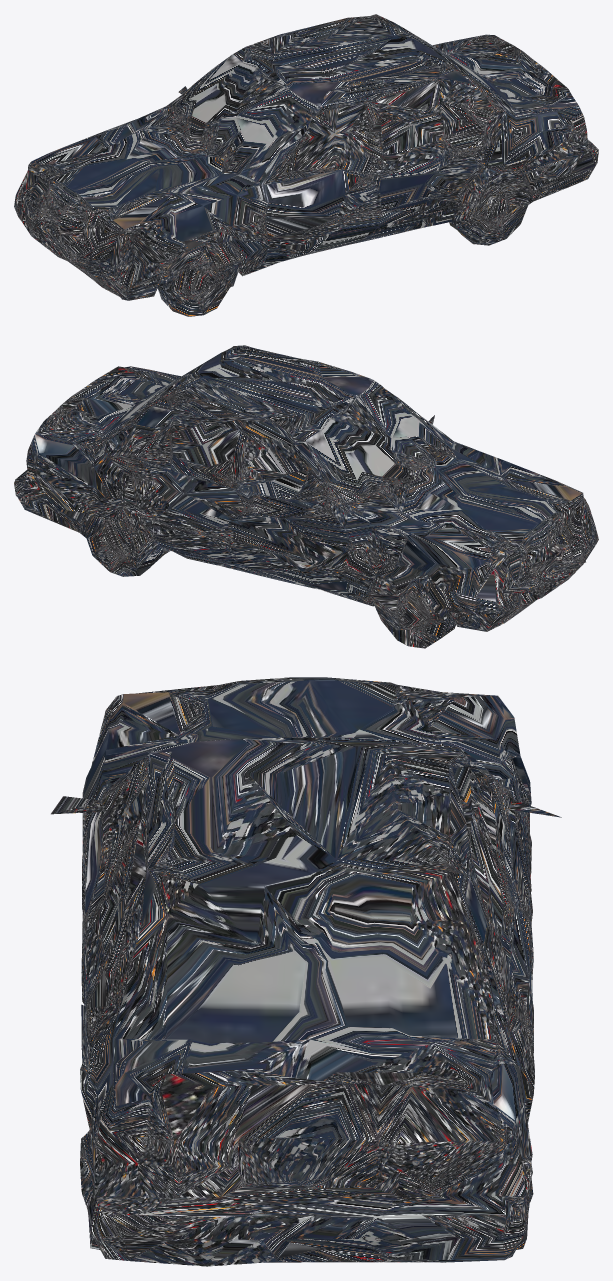
The model's file is car_far.glb.
3 renders of one model, top to bottom at view 1: azimuth 30°, elevation 25°; view 2: azimuth 150°, elevation 25°; view 3: azimuth 270°, elevation 25°, orthographic. The views are drawn at different scales.
Size of the model in its own units: 1.89 by 0.6349 by 0.8402.
Materials: 1 (1 with a texture image).
